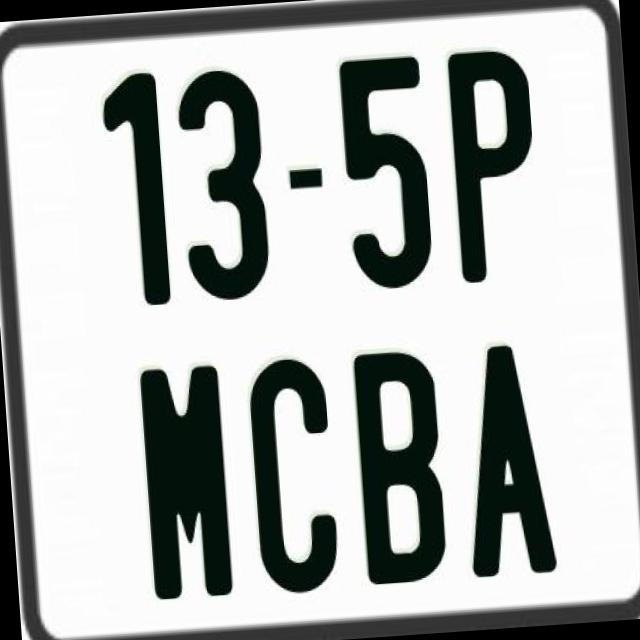1: (95, 66, 171, 312)
3: (173, 66, 273, 310)
5: (334, 54, 435, 298)
A: (454, 341, 562, 584)
B: (352, 346, 448, 583)
C: (246, 352, 346, 596)
M: (138, 362, 238, 606)
P: (443, 43, 539, 280)
